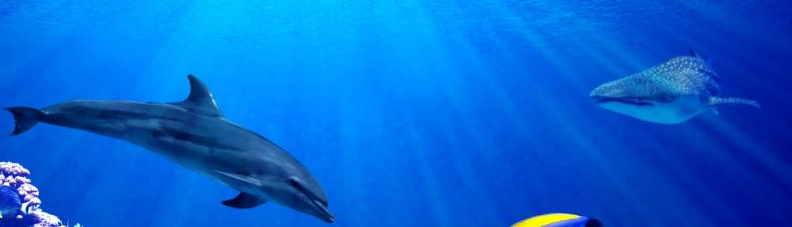dolphin: (4, 74, 335, 223)
shark: (587, 45, 764, 126)
